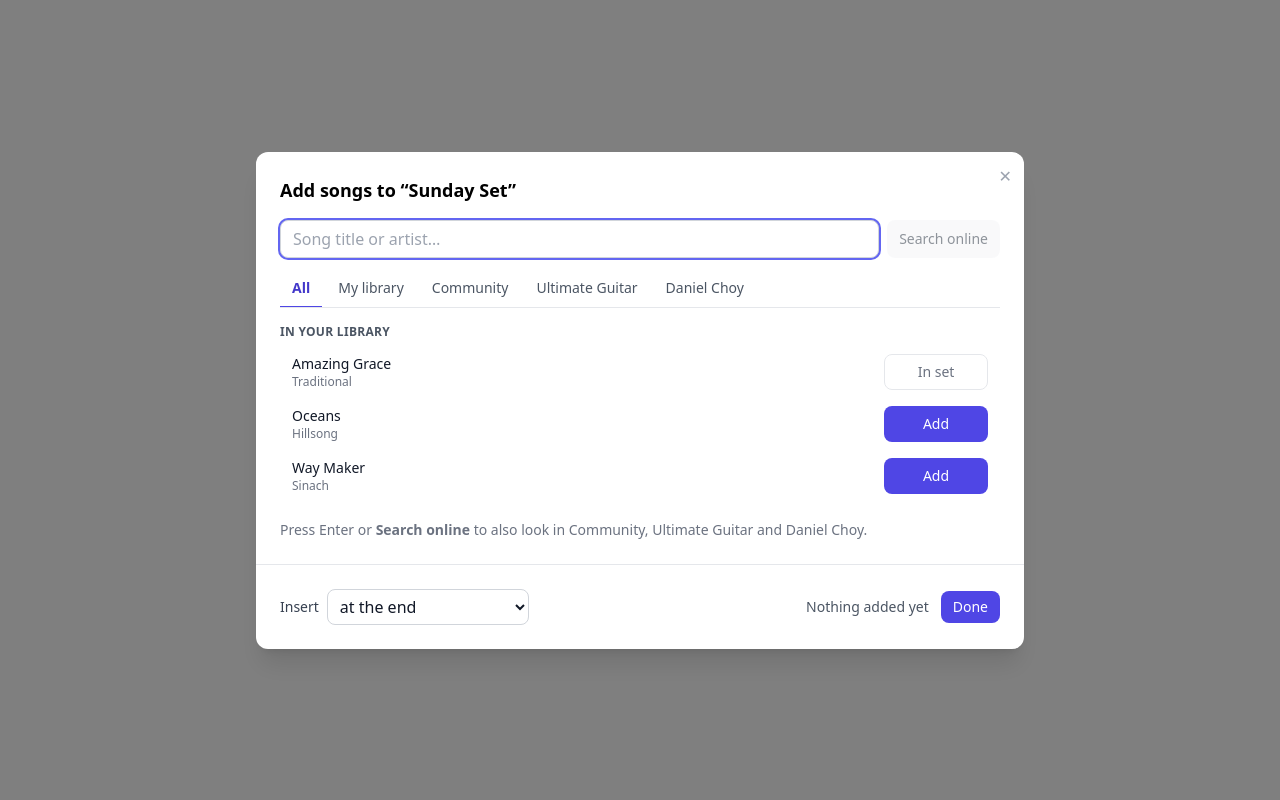
Test: AddSongsModal: library › adds a song to the end of the set and stays open
Click the button with aria-label "Add Oceans": {"x": 936, "y": 424} [884,406,988,442]
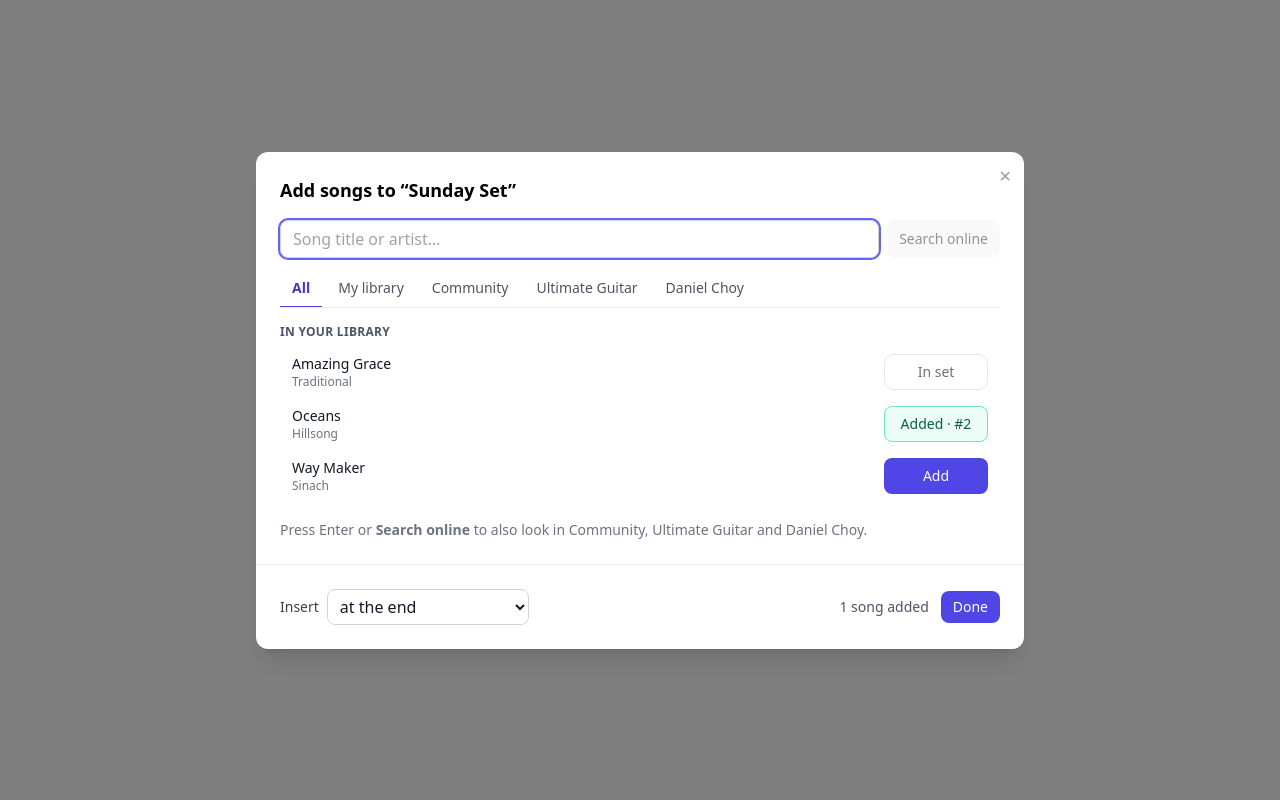
Now the button with aria-label "Undo add Oceans" reads "Added · #2", box [884,406,988,442]
